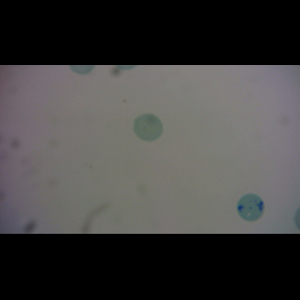aggregate reticulocyte: (236, 193, 265, 222)
erythrocyte: (132, 113, 163, 142)
